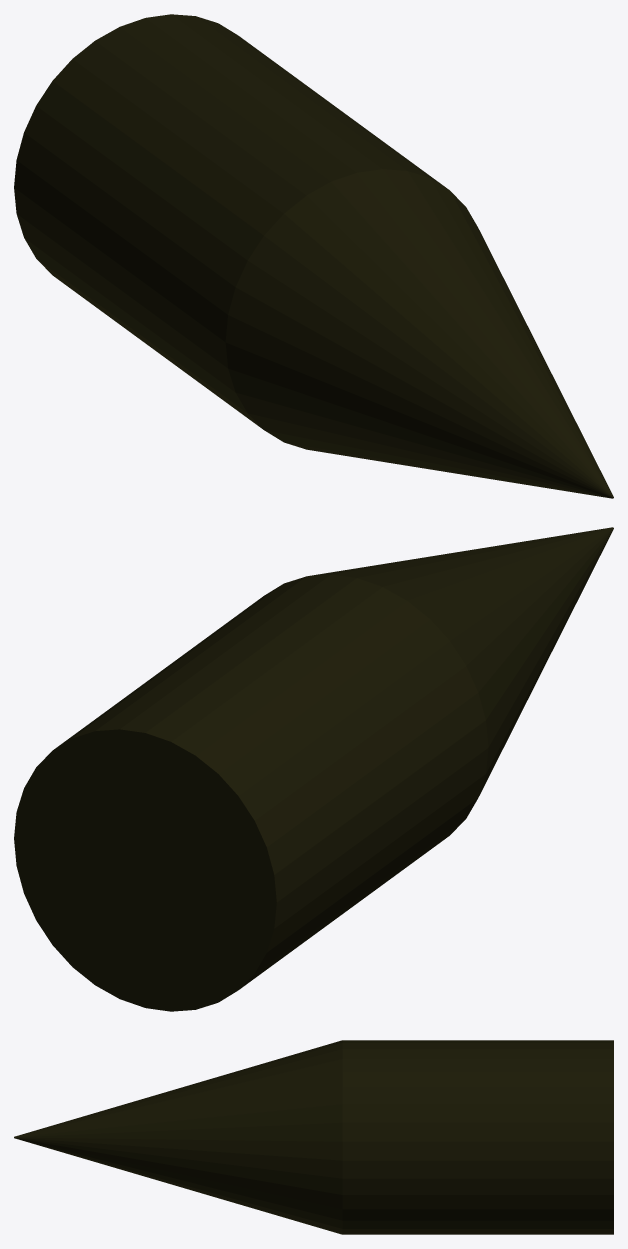
Rendered from Bullet.fbx.
3 views of the same model, one above another, from view 1: azimuth 30°, elevation 25°; view 2: azimuth 150°, elevation 25°; view 3: azimuth 270°, elevation 25° (orthographic). The views are drawn at different scales.
Visible parts, largest first — view 1: Cylinder; view 2: Cylinder; view 3: Cylinder.
Part boxes in pixels (bbox=[...]): Cylinder: bbox=[14, 14, 613, 498]; Cylinder: bbox=[14, 527, 613, 1011]; Cylinder: bbox=[14, 1040, 613, 1234].
Size of the model in its own units: 17.37 by 17.37 by 53.53.
